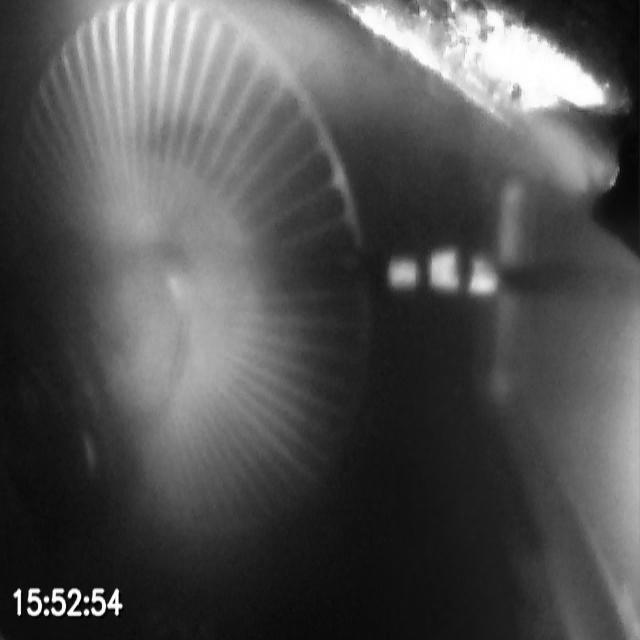white-dots: (387, 248, 501, 299)
